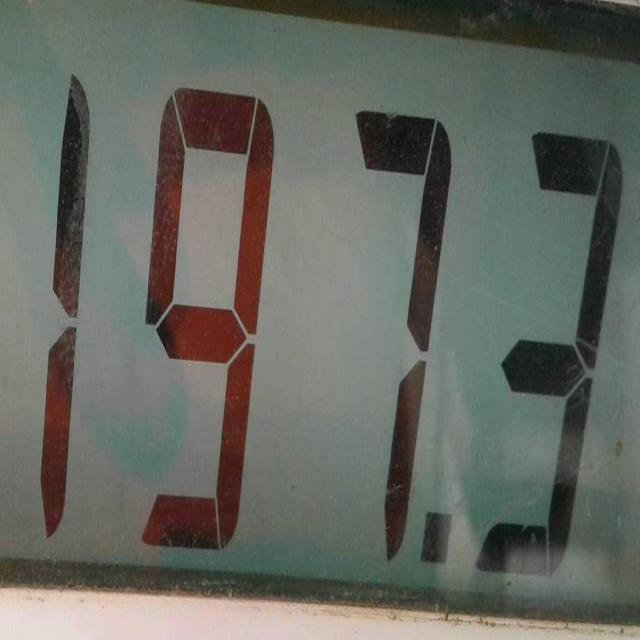.: (418, 510, 456, 566)
1: (40, 71, 92, 545)
3: (483, 130, 623, 578)
7: (357, 106, 452, 569)
9: (138, 83, 273, 554)
